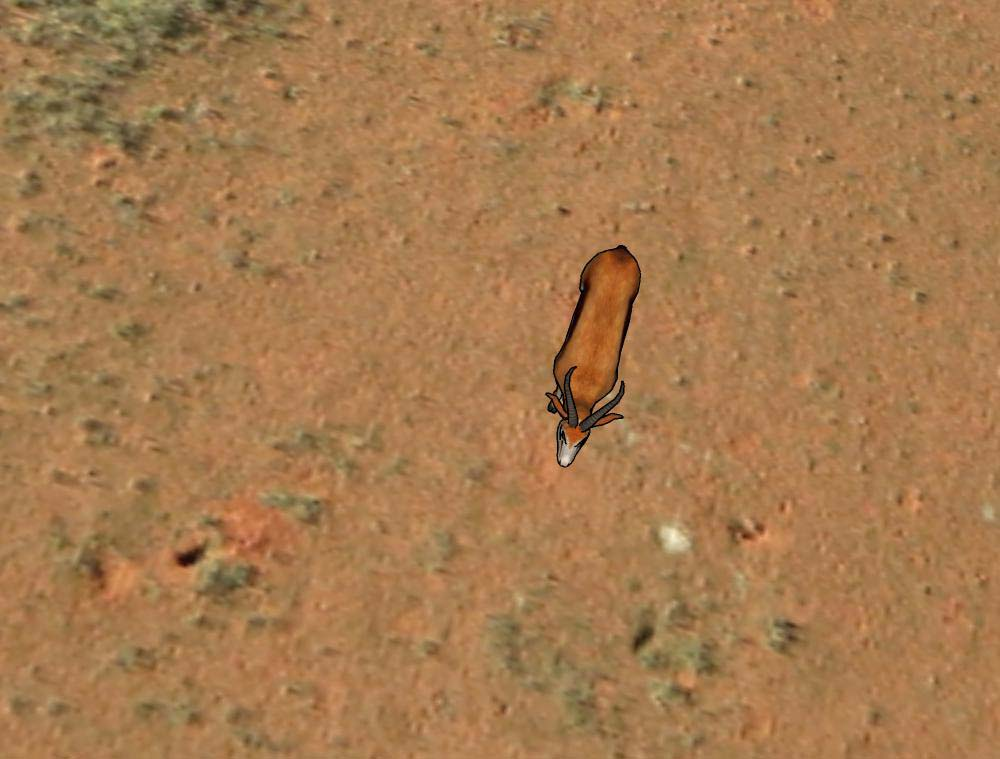springbok: (540, 232, 648, 473)
